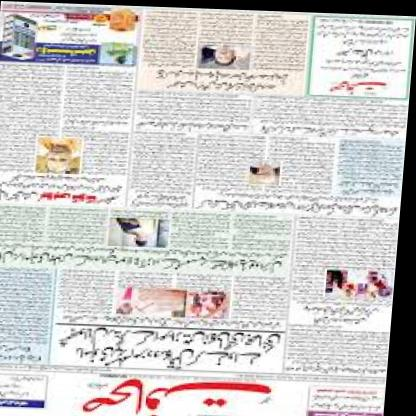Paper: (0, 1, 416, 416)
